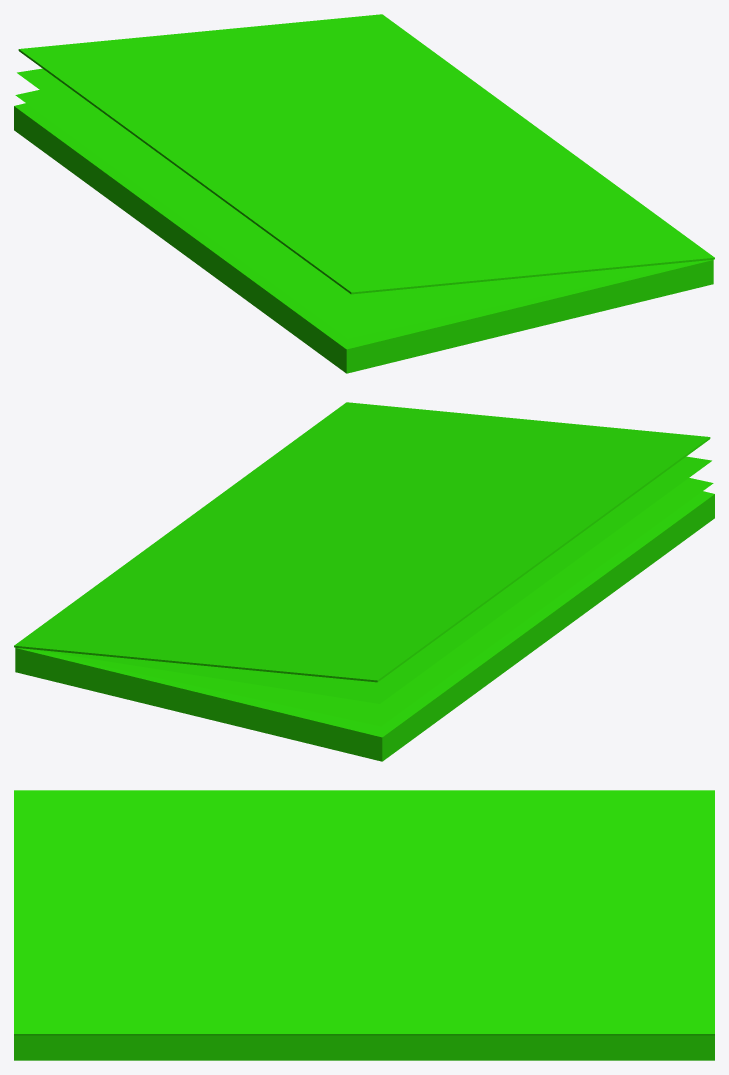
Rendered from Note_Book_02_Lod0.fbx.
The picture shows the model from 3 angles, top to bottom: view 1: azimuth 30°, elevation 25°; view 2: azimuth 150°, elevation 25°; view 3: azimuth 270°, elevation 25°; orthographic projection. The views are drawn at different scales.
Visible parts, largest first — view 1: Note_Book_02_Lod0; view 2: Note_Book_02_Lod0; view 3: Note_Book_02_Lod0.
Boxes of the visible parts, box(x1,y1,x2,y2) form: Note_Book_02_Lod0: box(14, 14, 714, 373); Note_Book_02_Lod0: box(14, 402, 714, 761); Note_Book_02_Lod0: box(14, 790, 714, 1060).
Size of the model in its own units: 12.6 by 2.62 by 19.71.
